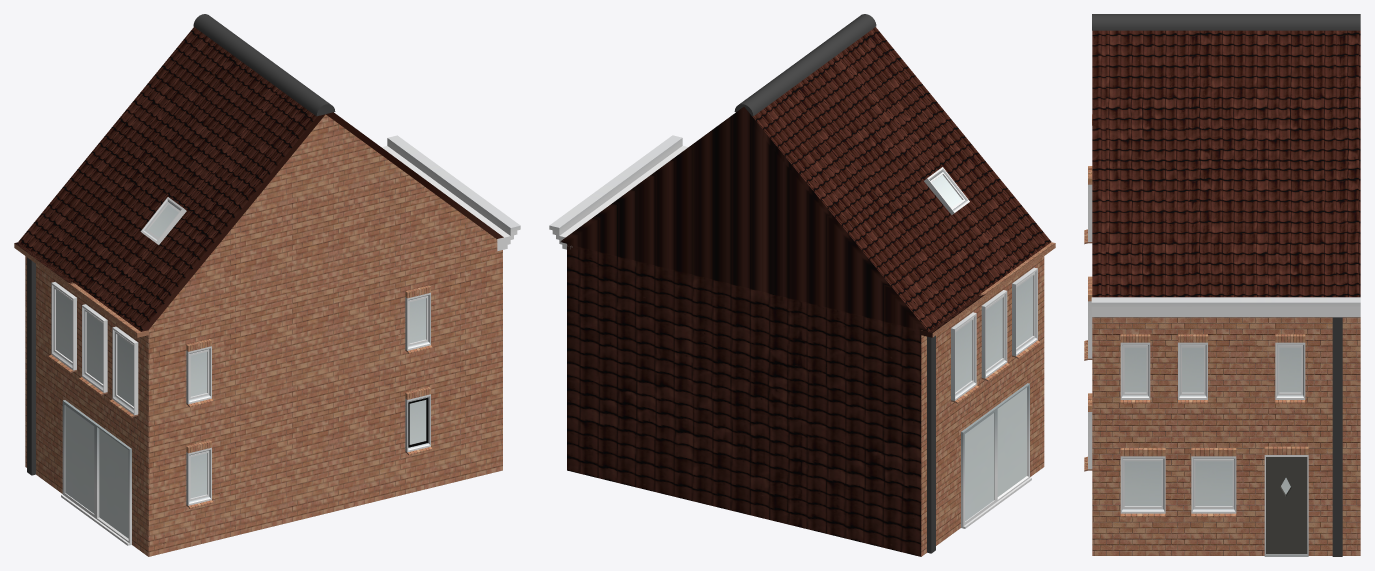
The model's file is It stee 14.fbx.
3 renders of one model, left to right at view 1: azimuth 30°, elevation 25°; view 2: azimuth 150°, elevation 25°; view 3: azimuth 270°, elevation 25°, orthographic. The views are drawn at different scales.
Parts seen in each view (by area): view 1: It_Heafek_20; view 2: It_Heafek_20; view 3: It_Heafek_20.
Boxes of the visible parts, x1,y1,x2,y2 form: It_Heafek_20: (14,14,520,556); It_Heafek_20: (549,14,1055,556); It_Heafek_20: (1084,14,1360,556).
Size of the model in its own units: 1025 by 1047 by 587.
